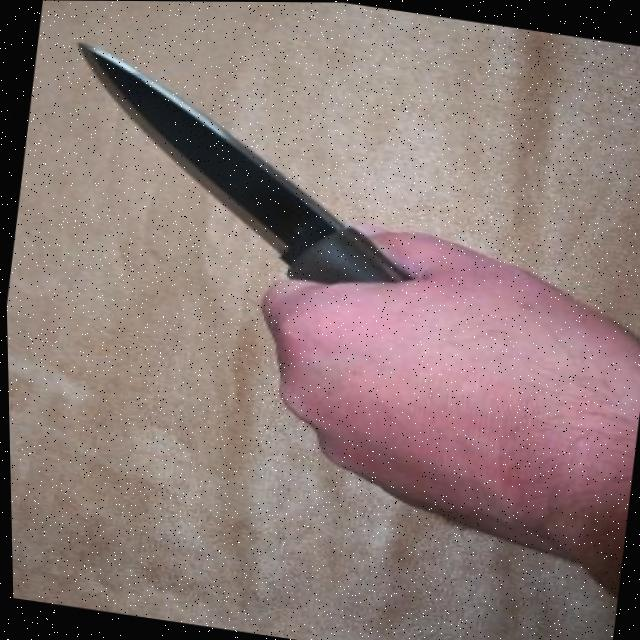knife: (50, 38, 397, 280)
